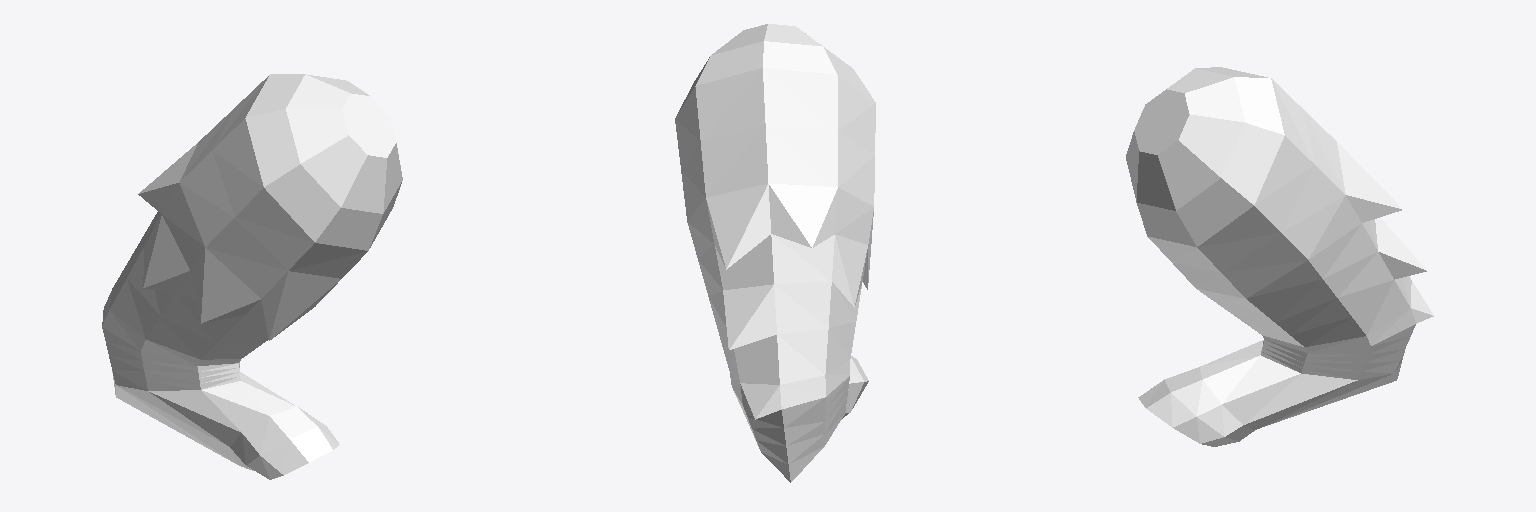
Rendered from UpLegL.obj.
The picture shows the model from 3 angles: view 1: azimuth 30°, elevation 25°; view 2: azimuth 150°, elevation 25°; view 3: azimuth 270°, elevation 25°; orthographic projection.
Parts seen in each view (by area): view 1: Upperlegl1; view 2: Upperlegl1; view 3: Upperlegl1.
Part boxes in pixels (left/top/right/bottom): Upperlegl1: left=102, top=74, right=402, bottom=479; Upperlegl1: left=675, top=24, right=875, bottom=482; Upperlegl1: left=1126, top=67, right=1433, bottom=446.
Bounding box in the file's own units: 2.7 × 4.67 × 3.41.